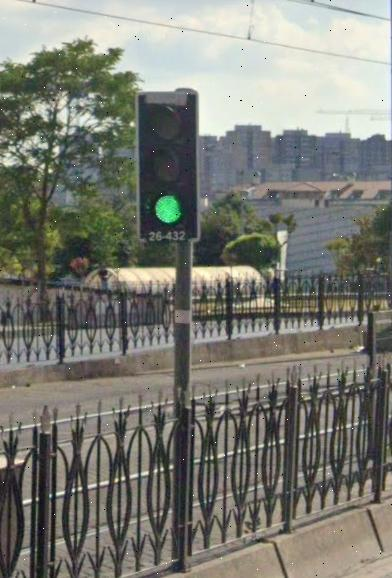greenlight: (142, 93, 199, 235)
